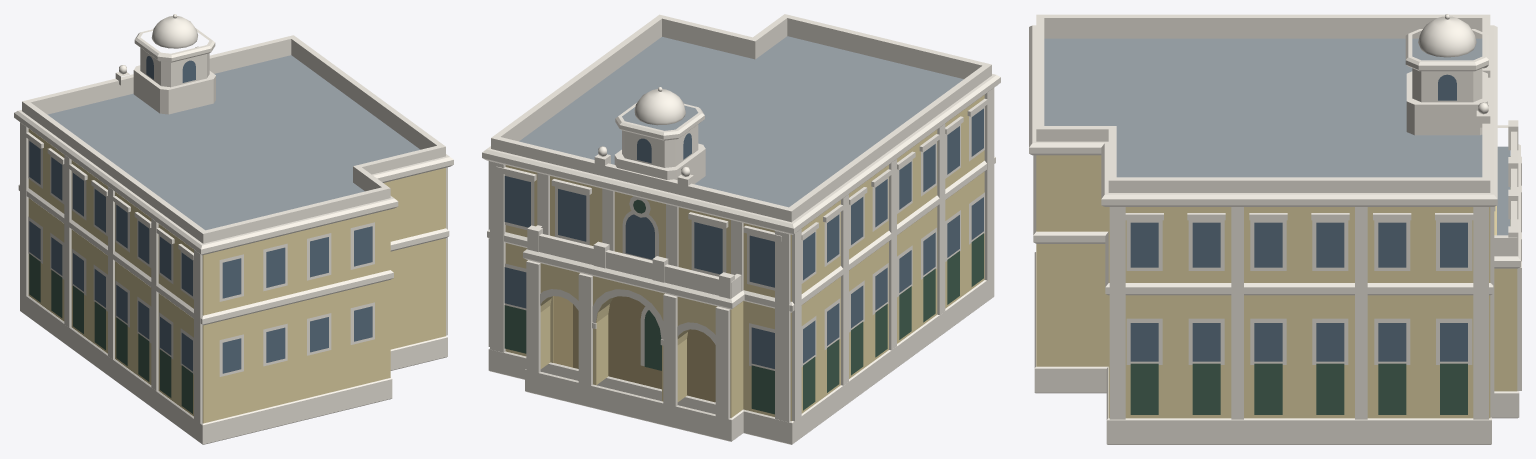
The model's file is cpt-old-town-house.glb.
The picture shows the model from 3 angles, left to right: view 1: azimuth 30°, elevation 25°; view 2: azimuth 150°, elevation 25°; view 3: azimuth 270°, elevation 25°; orthographic projection. The views are drawn at different scales.
Visible parts, largest first — view 1: Old Town House; view 2: Old Town House; view 3: Old Town House.
Part boxes in pixels (x1,y1,x2,y2): Old Town House: [14, 14, 453, 444]; Old Town House: [482, 14, 1000, 444]; Old Town House: [1029, 14, 1521, 444].
Size of the model in its own units: 18.04 by 16.98 by 21.82.
